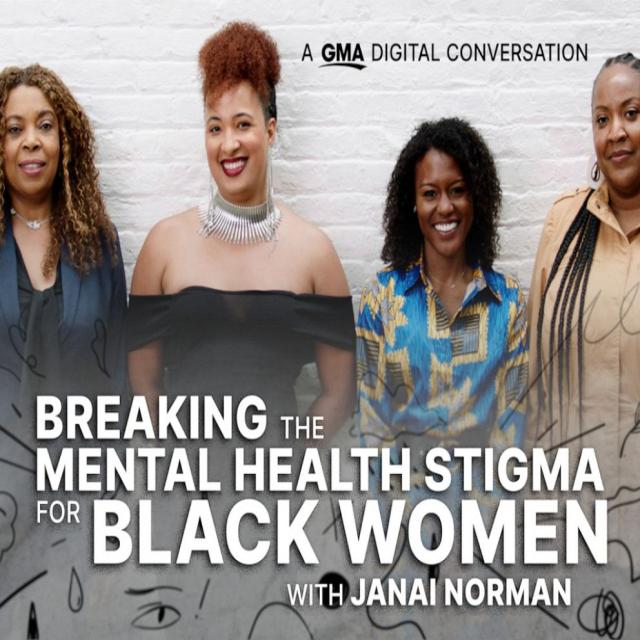sem_oculos: (187, 102, 276, 137), (412, 174, 487, 201), (0, 115, 67, 138), (590, 96, 640, 124)
